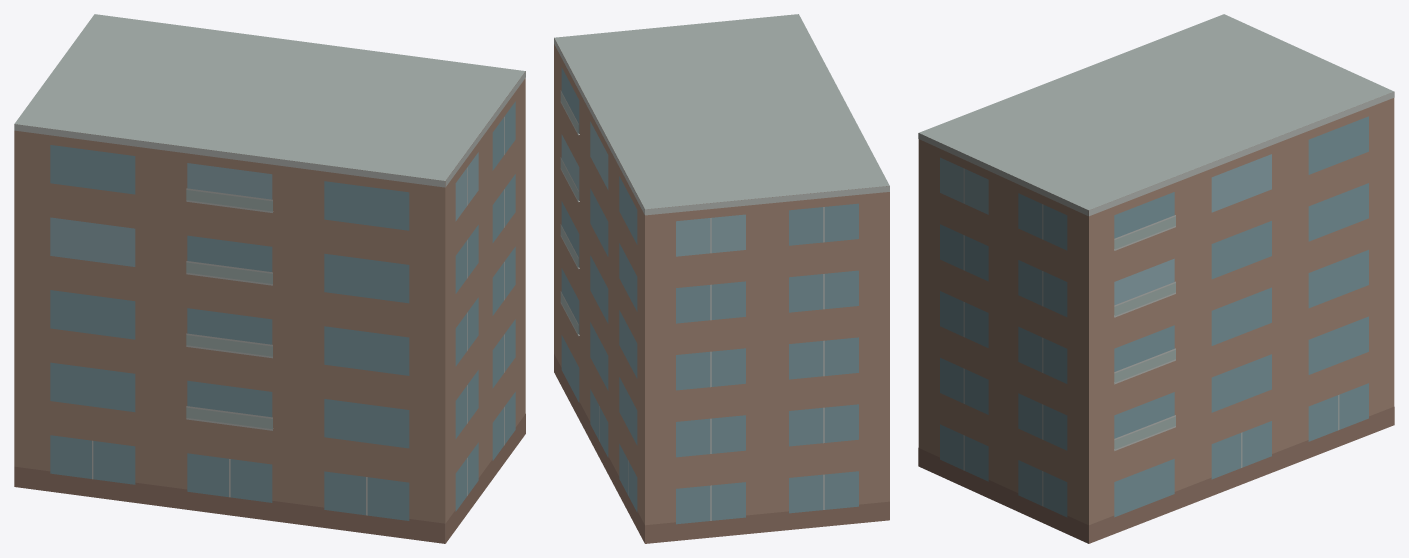
File: survey-upis-32722711.glb
3 renders of one model, left to right at view 1: azimuth 30°, elevation 25°; view 2: azimuth 150°, elevation 25°; view 3: azimuth 270°, elevation 25°, orthographic. The views are drawn at different scales.
Parts seen in each view (by area): view 1: survey-upis-32722711.tmp; view 2: survey-upis-32722711.tmp; view 3: survey-upis-32722711.tmp.
Part boxes in pixels (x1,y1,x2,y2): survey-upis-32722711.tmp: (14, 14, 525, 543); survey-upis-32722711.tmp: (554, 14, 889, 543); survey-upis-32722711.tmp: (918, 14, 1394, 543).
Size of the model in its own units: 16.99 by 13.45 by 17.4.
